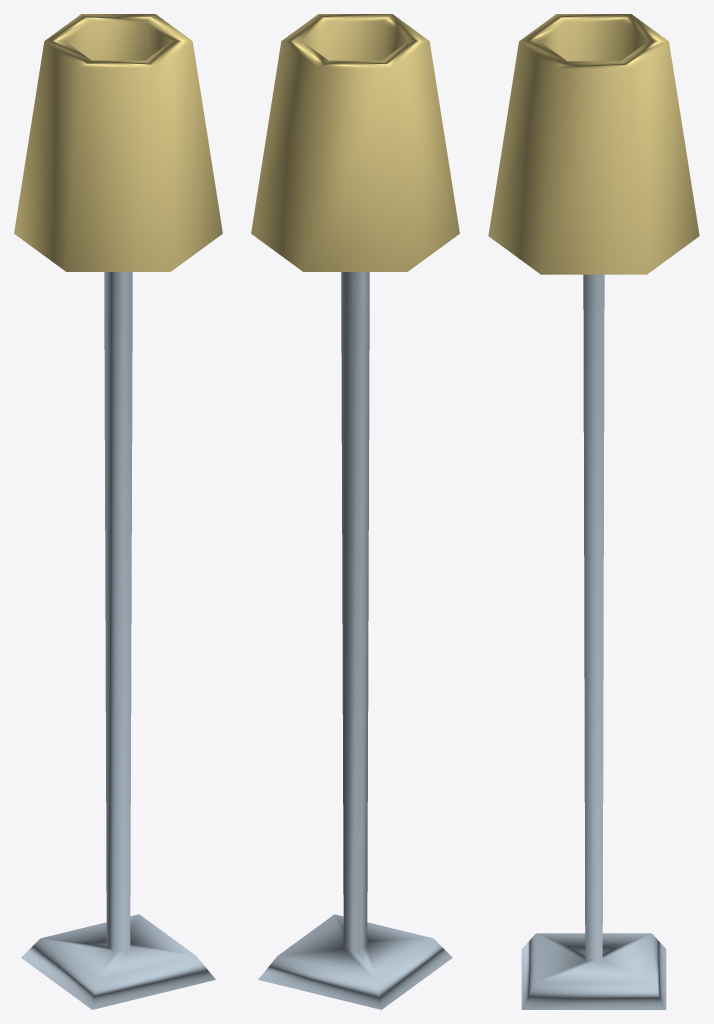
Rendered from lampRoundFloor.obj.
The picture shows the model from 3 angles, left to right: view 1: azimuth 30°, elevation 25°; view 2: azimuth 150°, elevation 25°; view 3: azimuth 270°, elevation 25°; orthographic projection.
Bounding box in the file's own units: 0.152 × 0.86 × 0.1756.
Materials: 1 (1 with a texture image).
